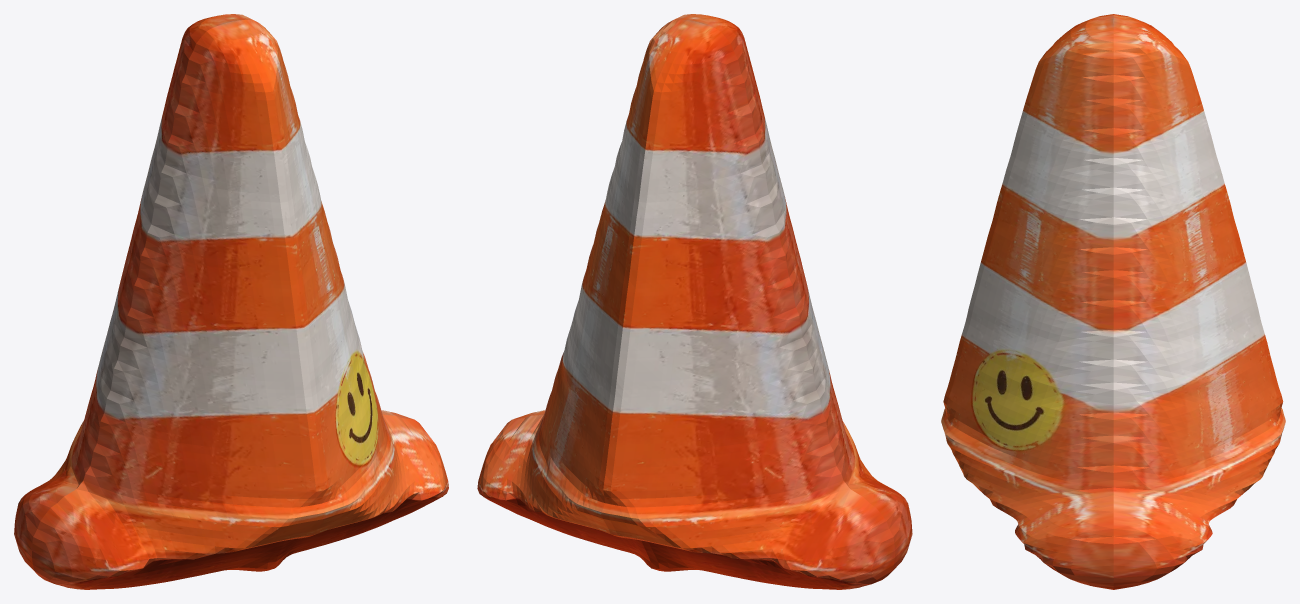
The model's file is traffic_cone.glb.
3 views of the same model, side by side, from view 1: azimuth 30°, elevation 25°; view 2: azimuth 150°, elevation 25°; view 3: azimuth 270°, elevation 25° (orthographic). The views are drawn at different scales.
Visible parts, largest first — view 1: geometry_0; view 2: geometry_0; view 3: geometry_0.
Boxes of the visible parts, x1=… form: geometry_0: x1=14, y1=14, x2=448, y2=589; geometry_0: x1=477, y1=14, x2=912, y2=589; geometry_0: x1=941, y1=14, x2=1285, y2=589.
Bounding box in the file's own units: 0.7698 × 0.9815 × 0.6165.
Materials: 1 (1 with a texture image).
